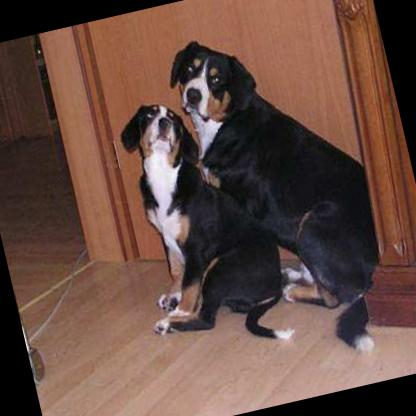EntleBucher: (158, 7, 403, 382), (101, 80, 296, 367)
